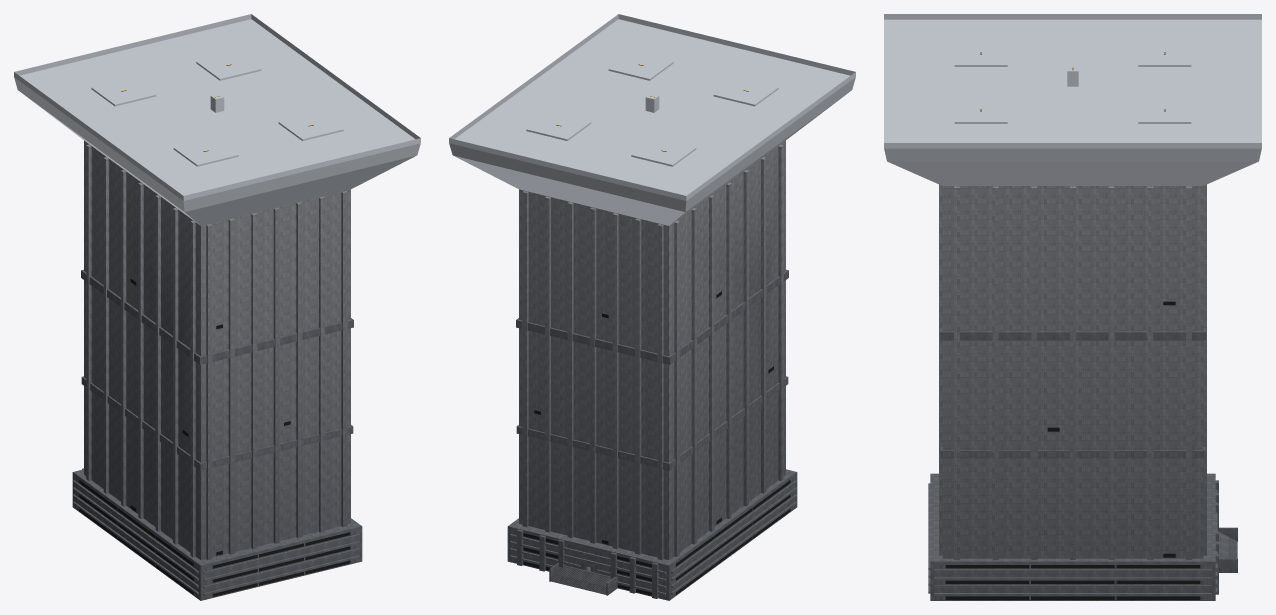
File: lapd-medium.glb
3 renders of one model, left to right at view 1: azimuth 30°, elevation 25°; view 2: azimuth 150°, elevation 25°; view 3: azimuth 270°, elevation 25°, orthographic. The views are drawn at different scales.
Parts seen in each view (by area): view 1: solid-0, crown, glass-detail; view 2: solid-0, crown, glass-detail; view 3: solid-0, crown, glass-detail.
Part boxes in pixels (box(x1,y1,x2,y2)): solid-0: box(72, 140, 362, 600); crown: box(14, 14, 420, 225); glass-detail: box(79, 279, 350, 596); solid-0: box(507, 140, 797, 600); crown: box(449, 14, 855, 225); glass-detail: box(523, 291, 790, 595); solid-0: box(928, 184, 1237, 600); crown: box(884, 14, 1261, 185); glass-detail: box(945, 301, 1200, 599).
Size of the model in its own units: 126 by 223 by 156.
5 materials, 1 textured.
